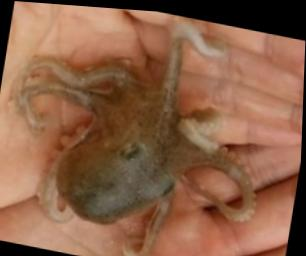Cephalopod: (9, 17, 257, 256)
